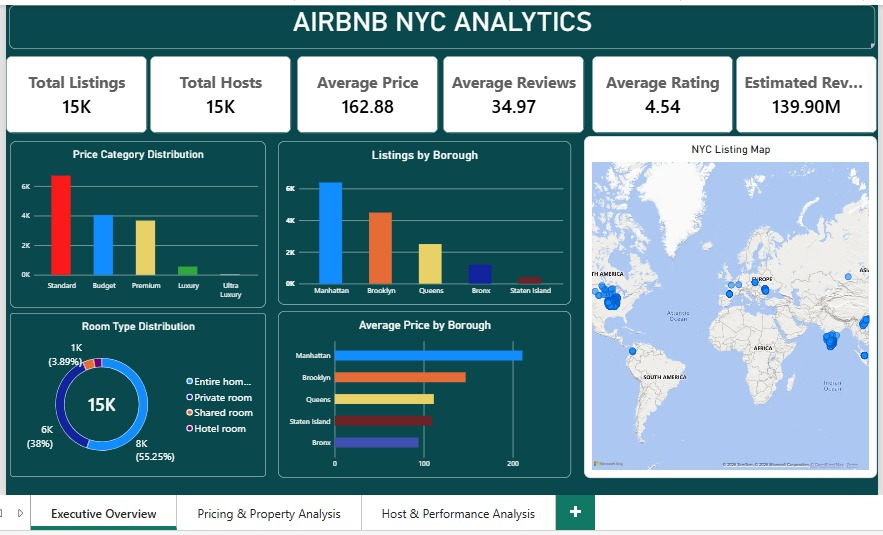

This screenshot's page, from the dashboard's own definition file:
{"tool":"powerbi","page":{"name":"Executive Overview","canvas":[1920,1080],"ordinal":0},"visuals":[{"type":"textbox","title":"AIRBNB NYC ANALYTICS","box":[6.6,0,1908.7,97],"z":0},{"type":"cardVisual","fields":{"Data":["Table.Total Listings"]},"box":[0,112.4,310.8,169.7],"z":1000},{"type":"cardVisual","fields":{"Data":["Table.Estimated Revenue"]},"box":[1609,112.4,310.8,169.7],"z":2000},{"type":"cardVisual","fields":{"Data":["Table.Average Reviews"]},"box":[963.2,112.4,310.8,169.7],"z":3000},{"type":"cardVisual","fields":{"Data":["Table.Average Rating"]},"box":[1291.6,112.4,310.8,169.7],"z":4000},{"type":"cardVisual","fields":{"Data":["Table.Average Price"]},"box":[641.4,112.4,310.8,169.7],"z":5000},{"type":"cardVisual","fields":{"Data":["Table.Total Hosts"]},"box":[317.4,112.4,310.8,169.7],"z":6000},{"type":"clusteredColumnChart","title":"Listings by Borough","fields":{"Category":["Airbnb_NYC_Cleaned_Analytics_FIXED.borough"],"Y":["Table.Total Listings"]},"box":[599.5,299.8,645.8,361.5],"z":7000},{"type":"barChart","title":"Average Price by Borough","fields":{"Category":["Airbnb_NYC_Cleaned_Analytics_FIXED.borough"],"Y":["Table.Average Price"]},"box":[599.5,674.4,645.8,368.1],"z":8000},{"type":"donutChart","title":"Room Type Distribution","fields":{"Category":["Airbnb_NYC_Cleaned_Analytics_FIXED.room_type"],"Y":["Table.Total Listings"]},"box":[8.8,678.9,564.2,361.5],"z":9000},{"type":"columnChart","title":"Price Category Distribution","fields":{"Category":["Airbnb_NYC_Cleaned_Analytics_FIXED.price_category"],"Y":["Table.Total Listings"]},"box":[8.8,299.8,564.2,368.1],"z":10000},{"type":"map","title":"NYC Listing Map","fields":{"Category":["Airbnb_NYC_Cleaned_Analytics_FIXED.latitude","Airbnb_NYC_Cleaned_Analytics_FIXED.longitude"]},"box":[1274,288.7,645.8,753.8],"z":11000}]}

Visuals, with their boxes in screenshot pixels (x1, y1, x2, y2):
"AIRBNB NYC ANALYTICS" textbox: 5, 2, 871, 46
cardVisual - Table.Total Listings: 2, 53, 143, 130
cardVisual - Table.Estimated Revenue: 732, 53, 873, 130
cardVisual - Table.Average Reviews: 439, 53, 580, 130
cardVisual - Table.Average Rating: 588, 53, 729, 130
cardVisual - Table.Average Price: 293, 53, 434, 130
cardVisual - Table.Total Hosts: 146, 53, 287, 130
"Listings by Borough" clusteredColumnChart: 274, 138, 567, 302
"Average Price by Borough" barChart: 274, 308, 567, 475
"Room Type Distribution" donutChart: 6, 310, 262, 474
"Price Category Distribution" columnChart: 6, 138, 262, 305
"NYC Listing Map" map: 580, 133, 873, 475
